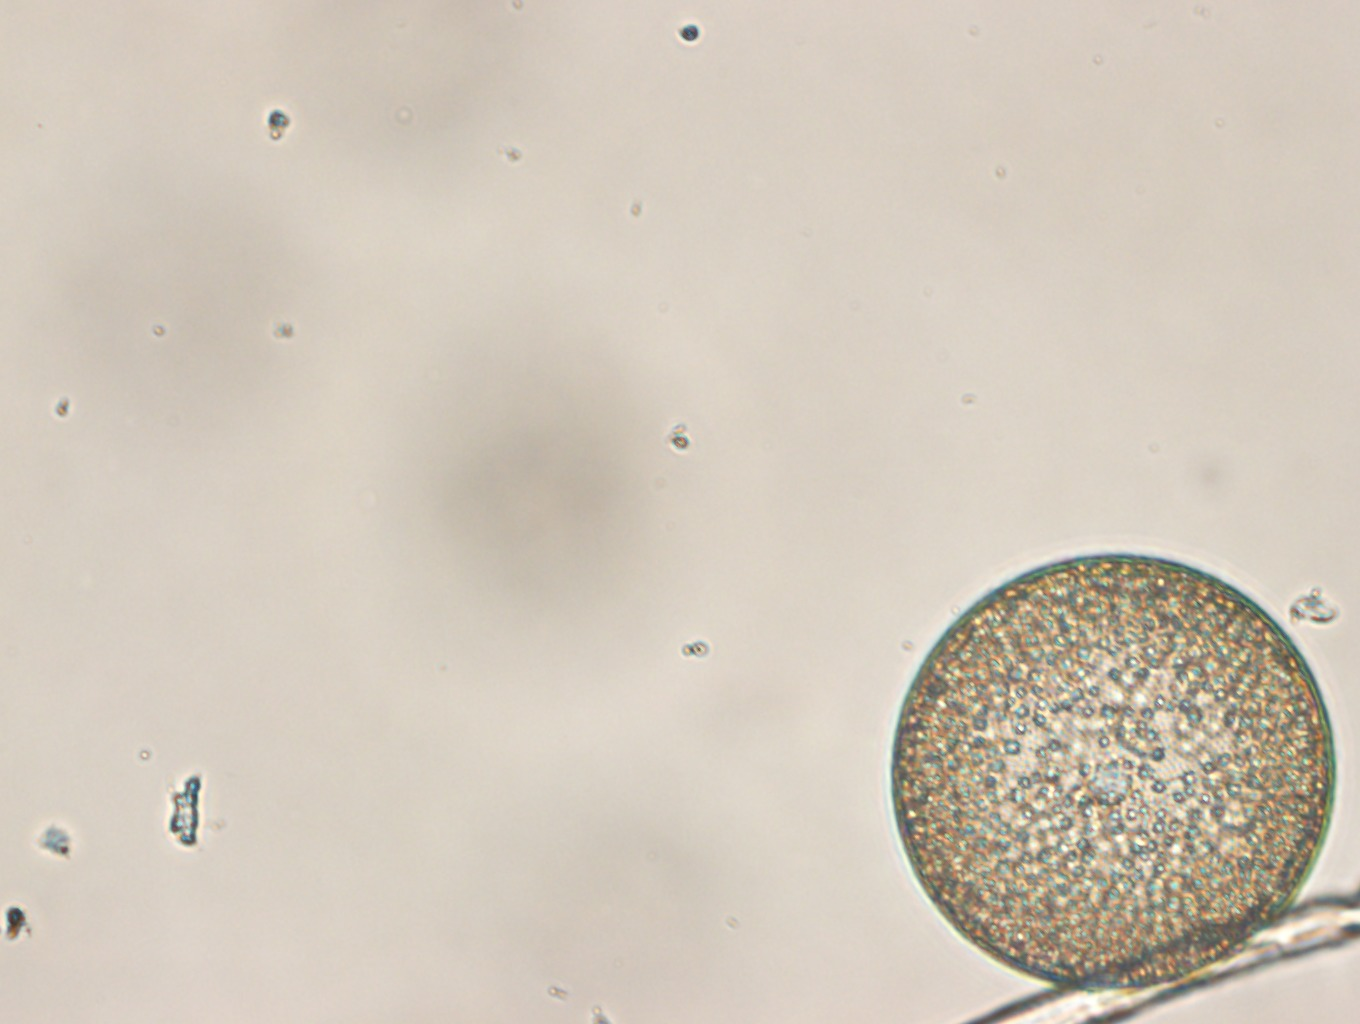coscinodiscus: (890, 555, 1334, 995)
